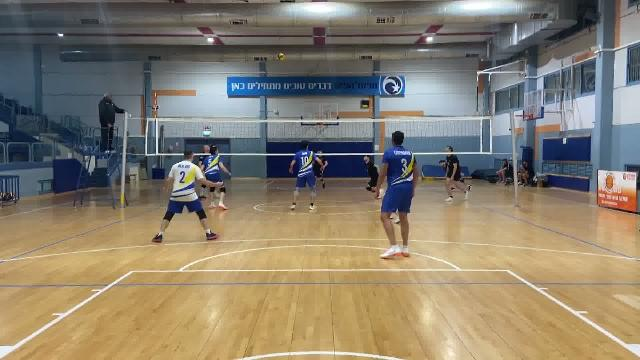ball: (278, 53, 284, 62)
